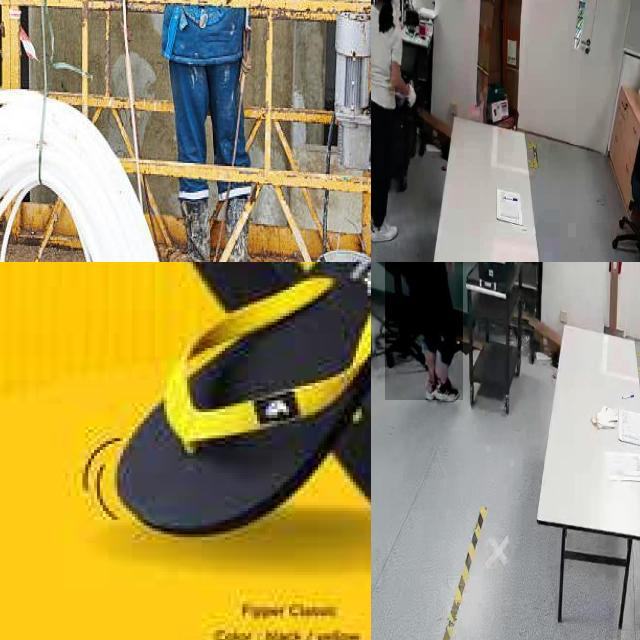Harness: (159, 0, 252, 67)
Sandals: (47, 262, 371, 564)
hand_glove: (405, 80, 419, 115)
hand_noglove: (445, 262, 454, 273)
person: (371, 0, 418, 257), (384, 262, 463, 401)
shoes: (433, 368, 462, 410), (371, 213, 401, 247), (371, 197, 380, 236)
